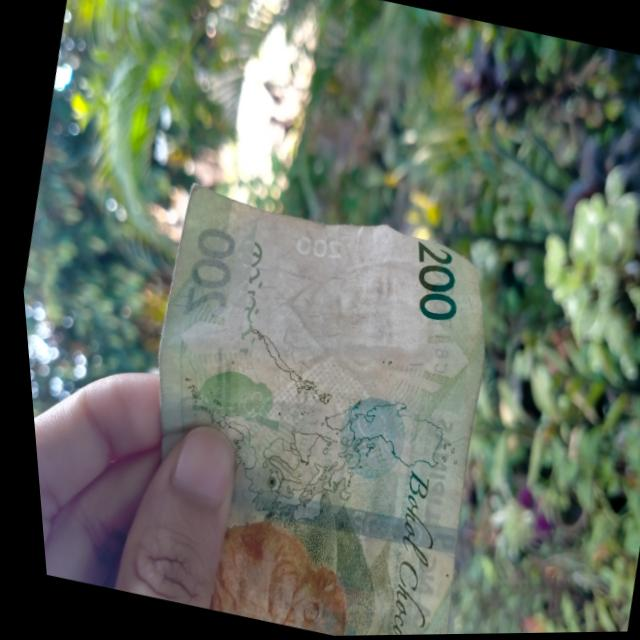security_thread: (216, 480, 449, 558)
see_through_mark: (202, 233, 281, 384)
value_watermark: (285, 228, 342, 272)
watermark: (231, 226, 452, 422)
